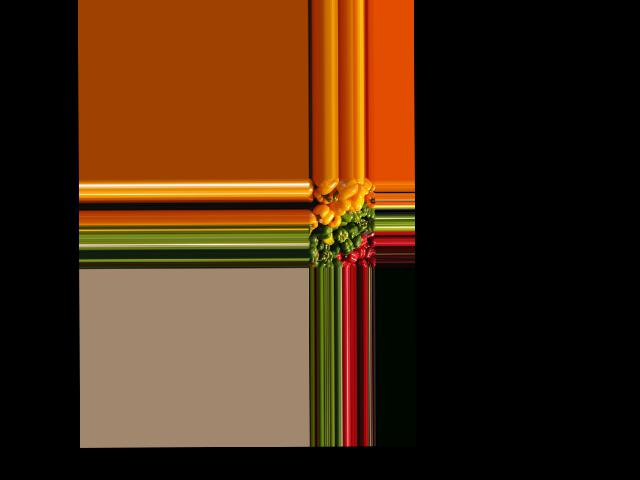bell_pepper: (307, 251, 319, 267)
